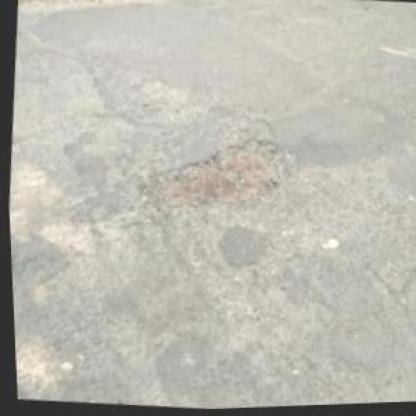pothole: (141, 127, 302, 224)
